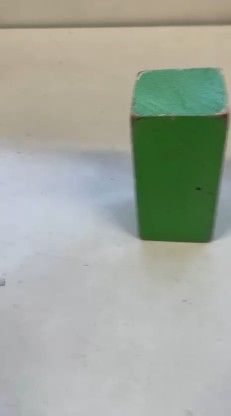green: (122, 73, 216, 238)
